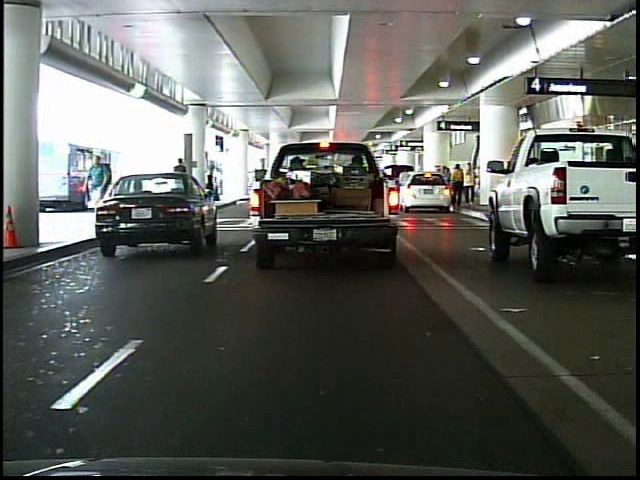person: (80, 149, 115, 229), (445, 160, 471, 220), (170, 154, 195, 209)
